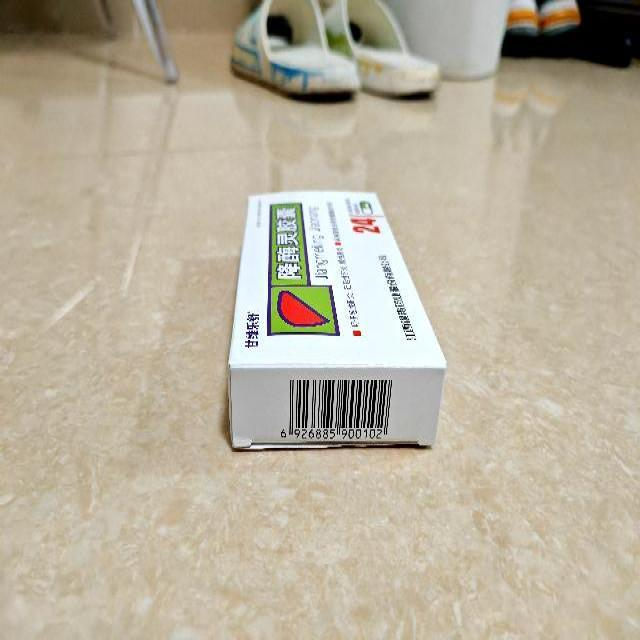box: (228, 190, 446, 444)
